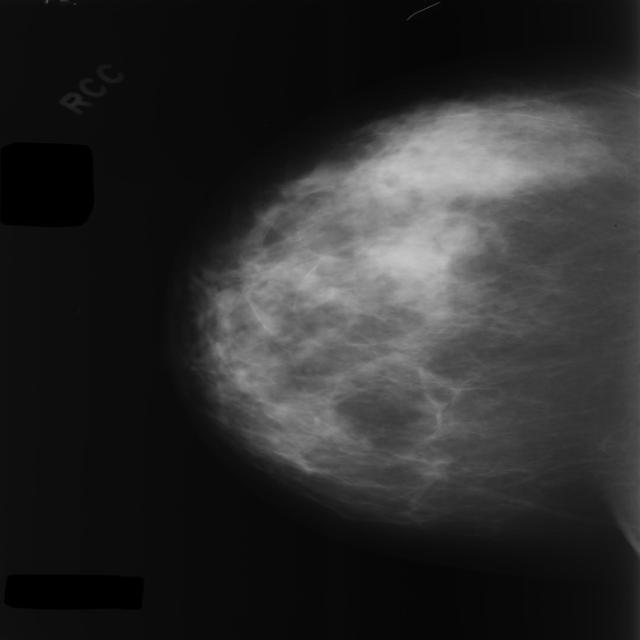tumour: (434, 222, 483, 256)
